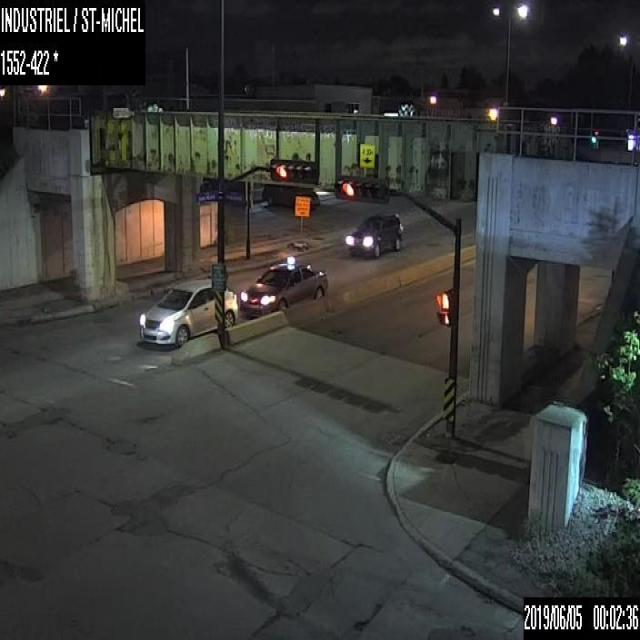construction: (290, 194, 311, 247)
vehicle: (136, 280, 238, 345), (239, 255, 326, 315), (344, 212, 402, 256), (259, 182, 318, 210)
